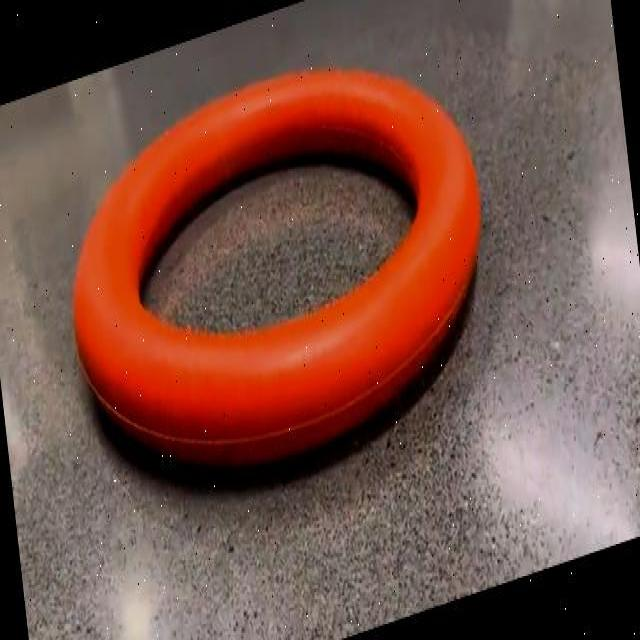note: (74, 68, 480, 467)
